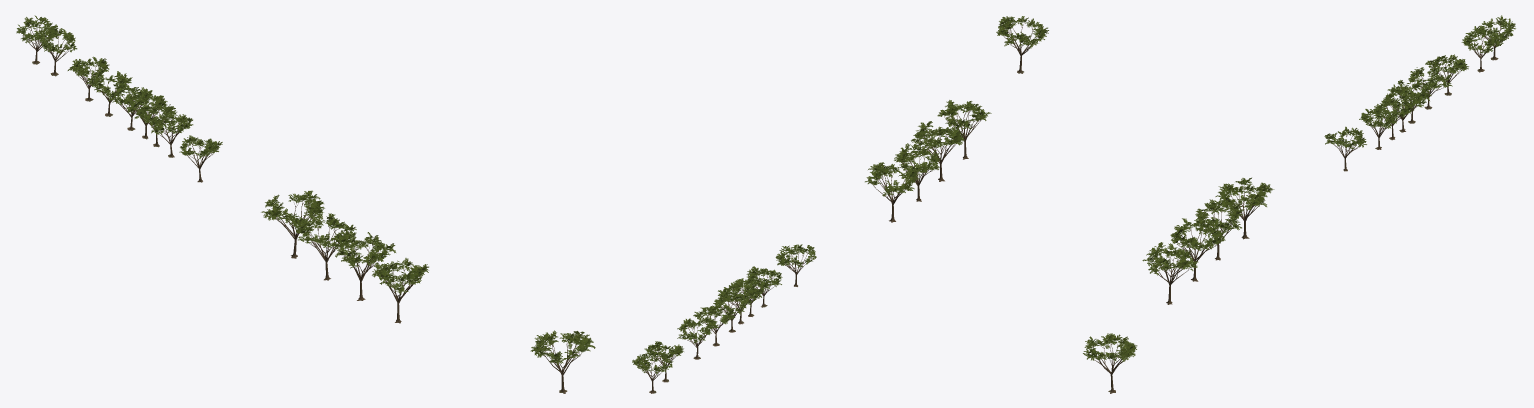
3 views of the same model, side by side, from view 1: azimuth 30°, elevation 25°; view 2: azimuth 150°, elevation 25°; view 3: azimuth 330°, elevation 25° (orthographic). The views are drawn at different scales.
Parts seen in each view (by area): view 1: geometry_1, geometry_0; view 2: geometry_1, geometry_0; view 3: geometry_1, geometry_0.
Part boxes in pixels (<box>): geometry_1: <box>16,15,595,364</box>; geometry_0: <box>21,22,581,393</box>; geometry_1: <box>632,16,1048,374</box>; geometry_0: <box>638,24,1040,393</box>; geometry_1: <box>1083,15,1515,361</box>; geometry_0: <box>1091,22,1508,393</box>.
Size of the model in its own units: 21.49 by 10.41 by 153.
Materials: 3 (3 with a texture image).
